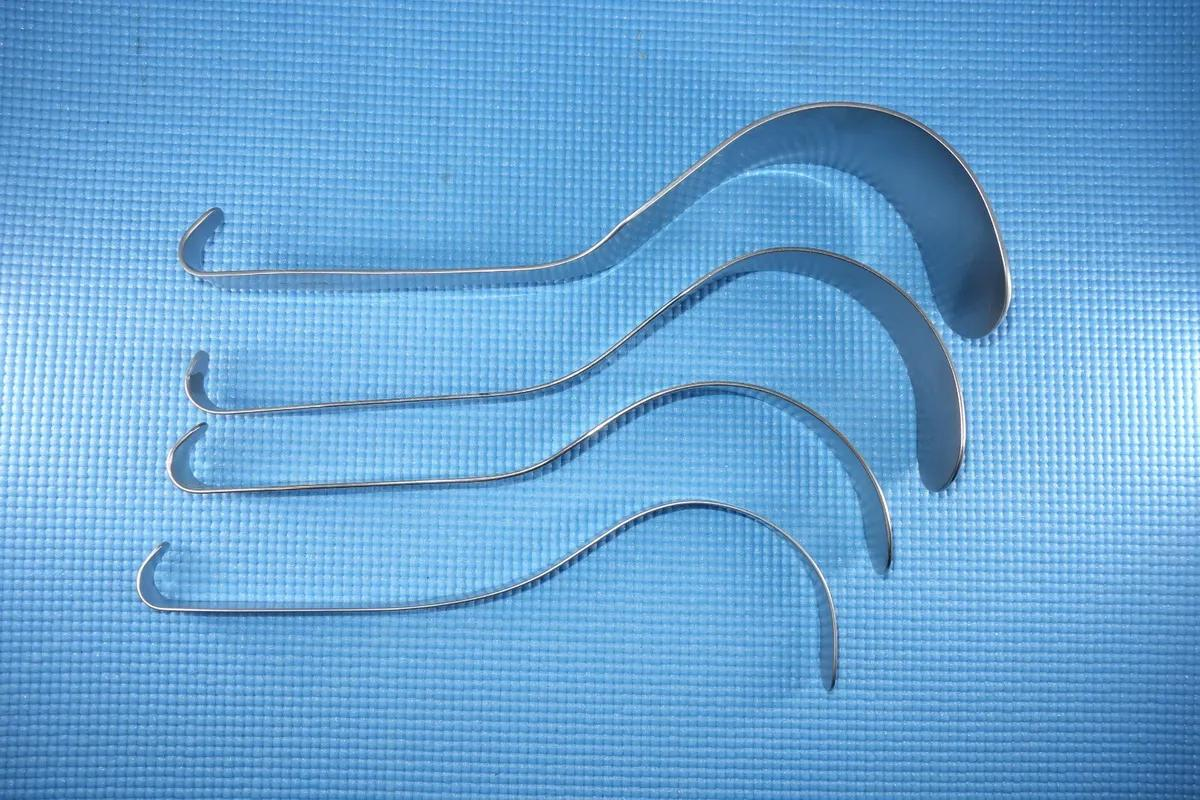Deaver Retractor: (189, 236, 1009, 504), (181, 84, 1028, 339), (155, 376, 941, 586), (129, 501, 863, 711)
